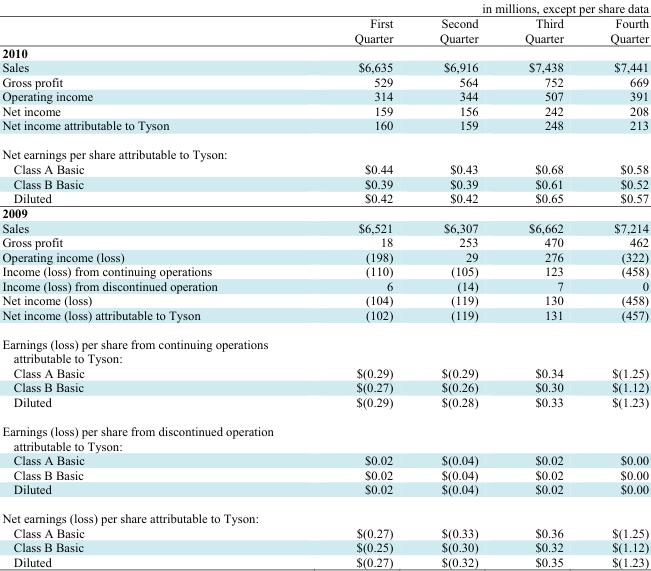table: (1, 0, 648, 568)
table column: (1, 0, 285, 568), (285, 0, 415, 568), (500, 0, 586, 568), (415, 0, 500, 568), (586, 0, 648, 568)
table column header: (1, 0, 648, 45)
table projected row header: (1, 329, 648, 365), (1, 416, 648, 452), (1, 139, 648, 161), (1, 503, 648, 525), (1, 205, 648, 220), (1, 45, 648, 59)
table row: (1, 329, 648, 365), (1, 416, 648, 452), (1, 15, 648, 45), (1, 117, 648, 139), (1, 139, 648, 161), (1, 307, 648, 329), (1, 394, 648, 416), (1, 481, 648, 503), (1, 503, 648, 525), (1, 0, 648, 15), (1, 59, 648, 74), (1, 88, 648, 103), (1, 161, 648, 176), (1, 190, 648, 205), (1, 205, 648, 220), (1, 234, 648, 249), (1, 263, 648, 278), (1, 292, 648, 307), (1, 379, 648, 394), (1, 452, 648, 467), (1, 539, 648, 554), (1, 45, 648, 59), (1, 74, 648, 88), (1, 103, 648, 117), (1, 176, 648, 190), (1, 220, 648, 234), (1, 249, 648, 263), (1, 278, 648, 292), (1, 365, 648, 379), (1, 467, 648, 481), (1, 525, 648, 539), (1, 554, 648, 568)
table spanning cell: (285, 0, 415, 45), (415, 0, 648, 15)
